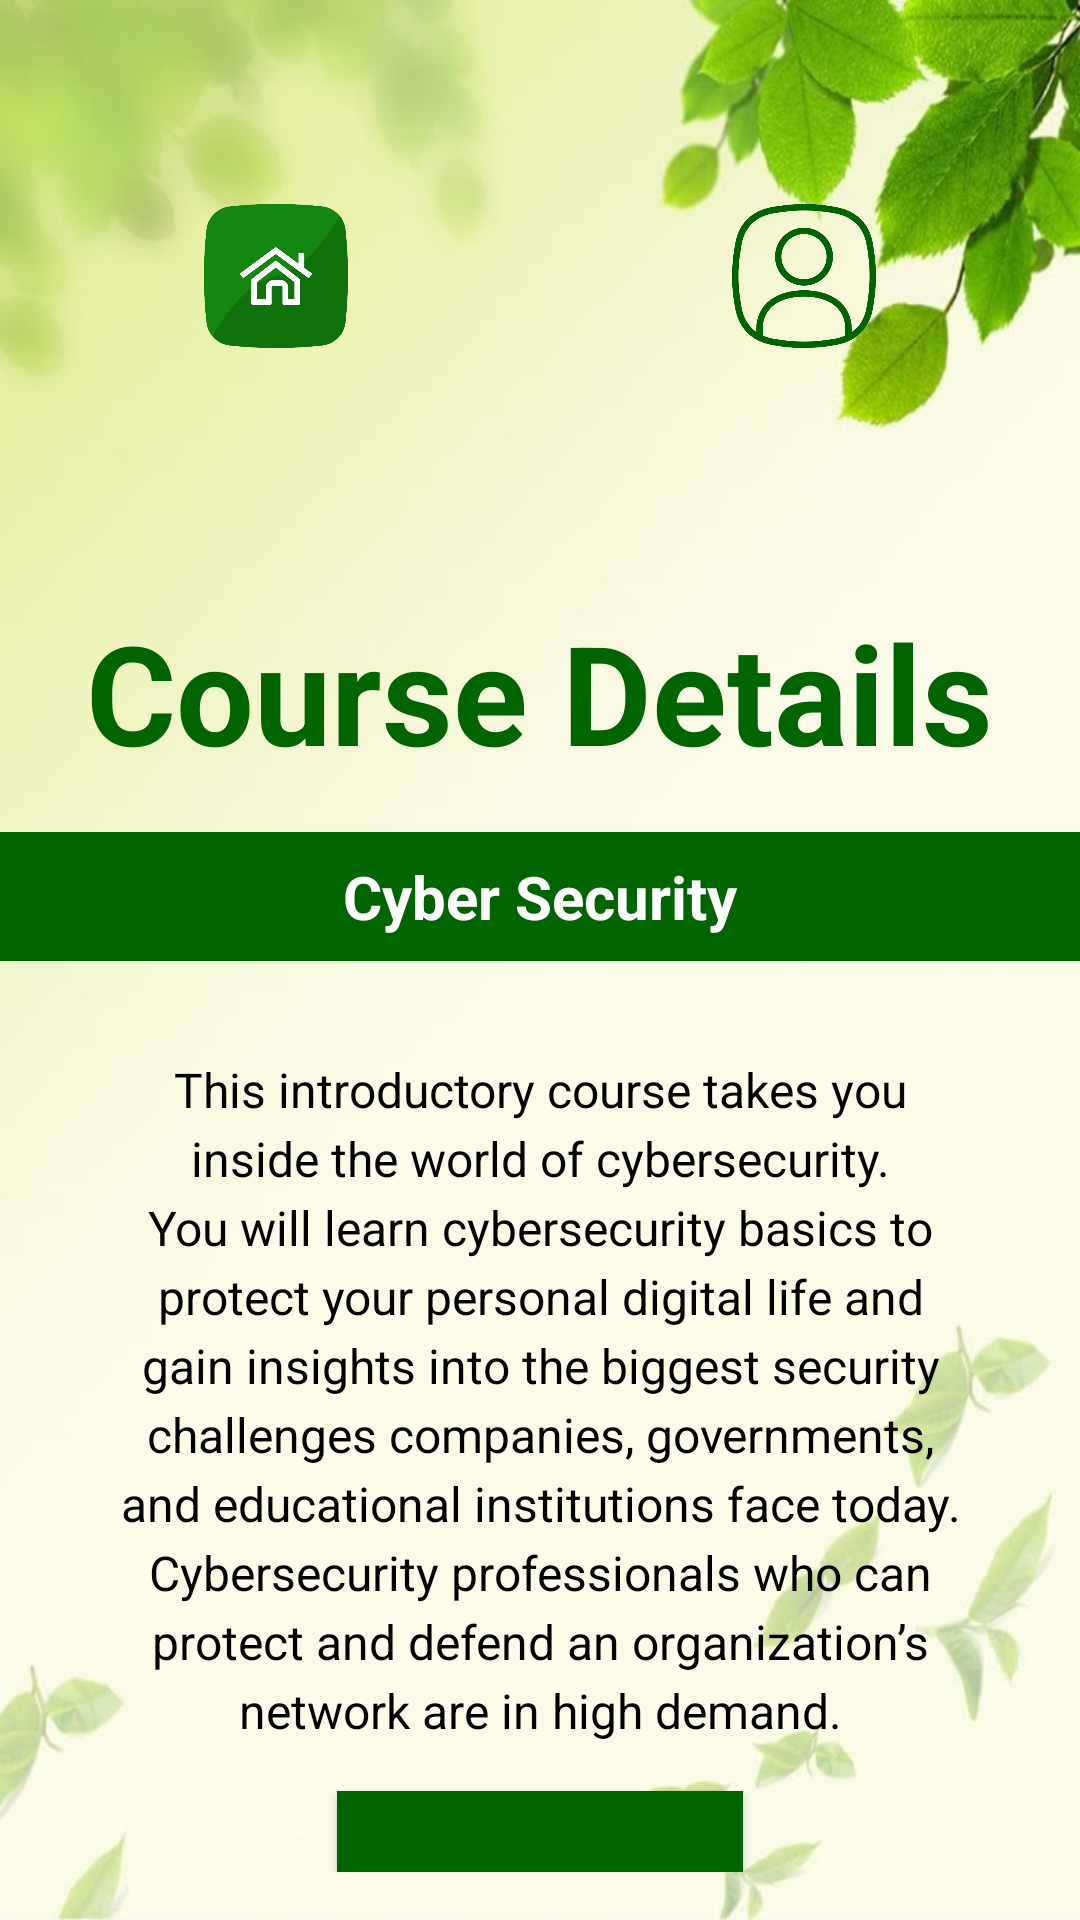

Where to tap for icons on this 1080px x 1920px app screen, as [x,y]:
Home Icon: [276,276]
Profile Icon: [804,276]
